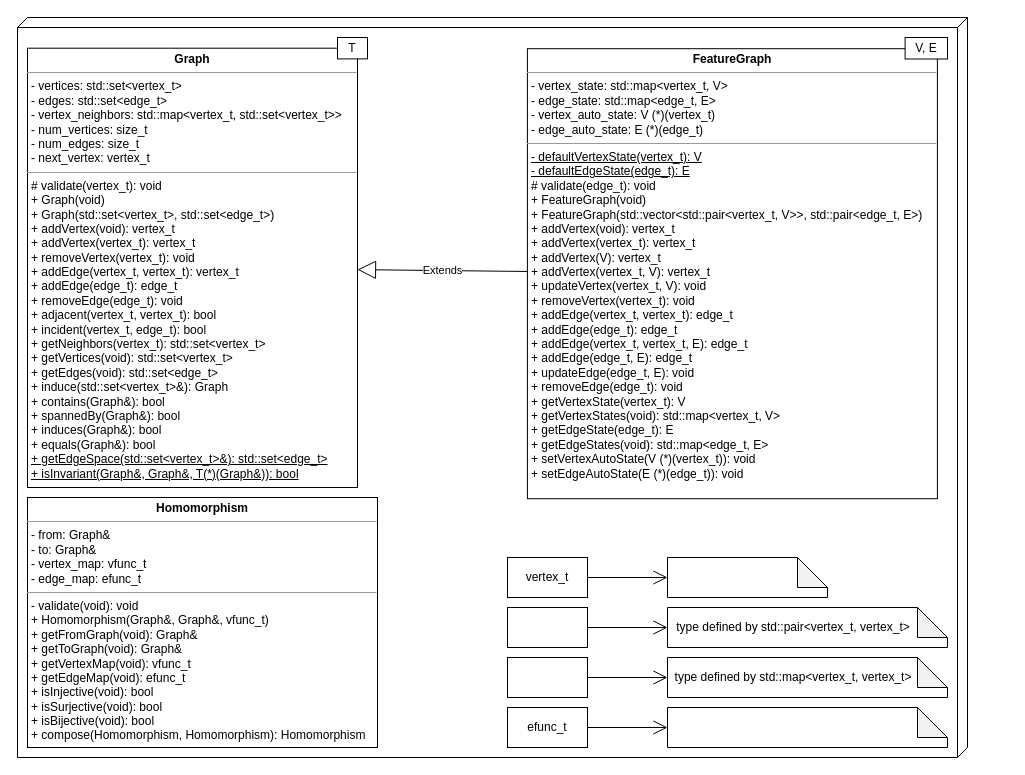
Image size: 1025x775. Some labels were removed from this diagram. Here are the shapes that lost their labels. From the top down, the centre of each, then its label:
(x=747, y=577): type defined by size_t
(x=547, y=627): edge_t
(x=547, y=677): vfunc_t
(x=807, y=727): type defined by std::map<edge_t, edge_t>
